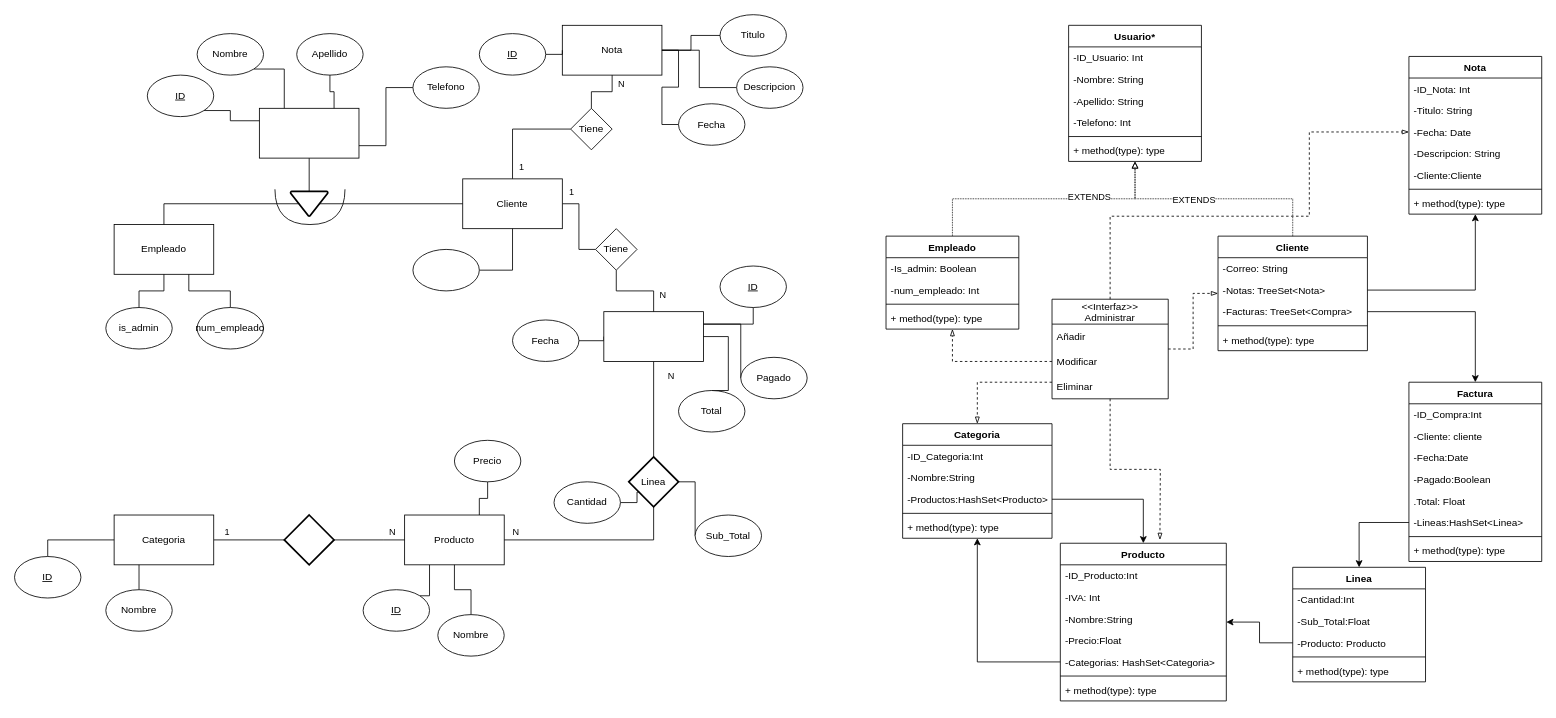
This 1556x718 diagram has some shape labels left out. The shapes that lost their labels are listed below. From the top down, each one's centre as x and y in pixels, then its label:
At [309,132]: "Usuario".
At [445,270]: "Correo".
At [653,336]: "Compra".
At [308,539]: "Contiene".
